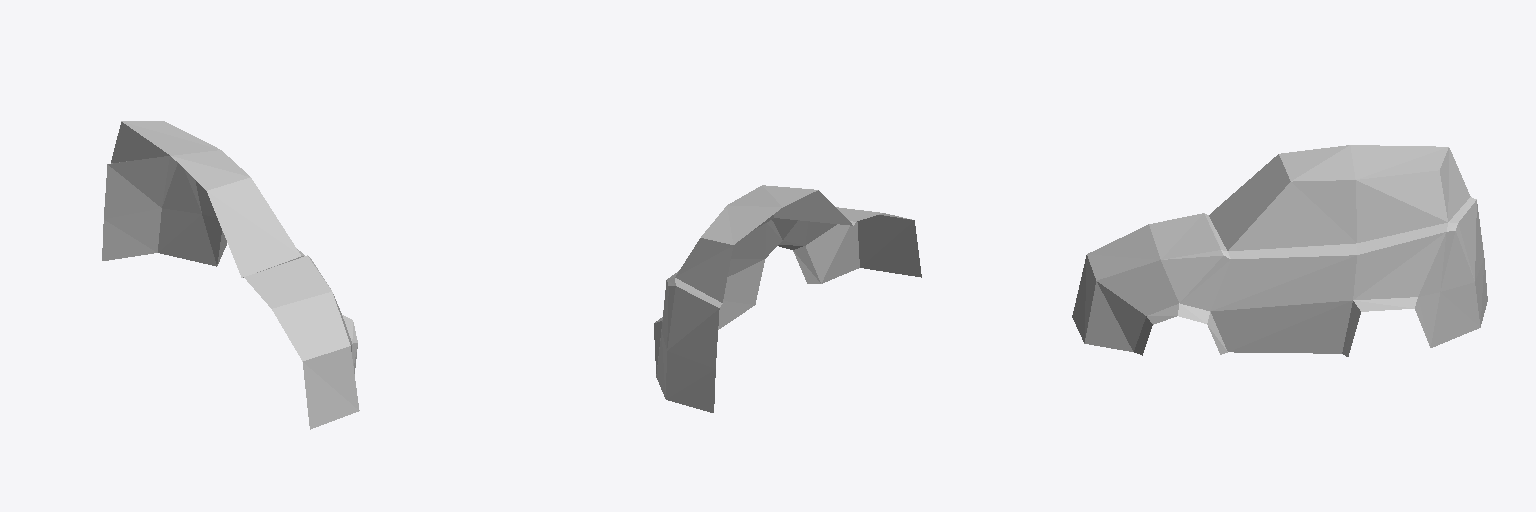
The model's file is car 3.obj.
3 views of the same model, side by side, from view 1: azimuth 30°, elevation 25°; view 2: azimuth 150°, elevation 25°; view 3: azimuth 270°, elevation 25° (orthographic).
Parts seen in each view (by area): view 1: trueno2; view 2: trueno2; view 3: trueno2.
Part boxes in pixels (x1,y1,x2,y2): trueno2: (102,121,359,429); trueno2: (654,185,921,412); trueno2: (1072,145,1487,356).
Size of the model in its own units: 0.7395 by 1.22 by 2.66.